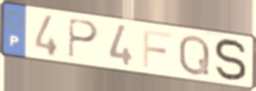4: (106, 22, 134, 69), (33, 12, 61, 59)
F: (141, 28, 174, 70)
P: (67, 16, 101, 60)
Q: (177, 33, 212, 77)
S: (213, 37, 249, 83)
